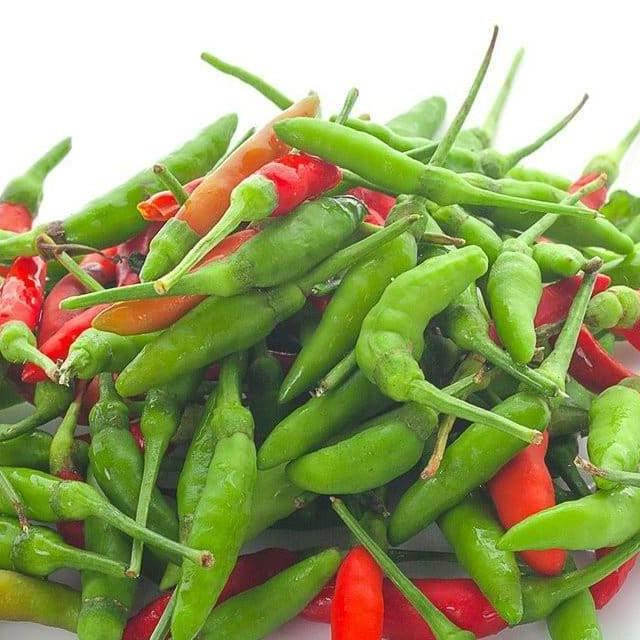chili_pepper: (169, 356, 258, 640), (356, 246, 488, 412), (389, 425, 529, 546), (287, 404, 439, 496), (494, 392, 552, 432)
